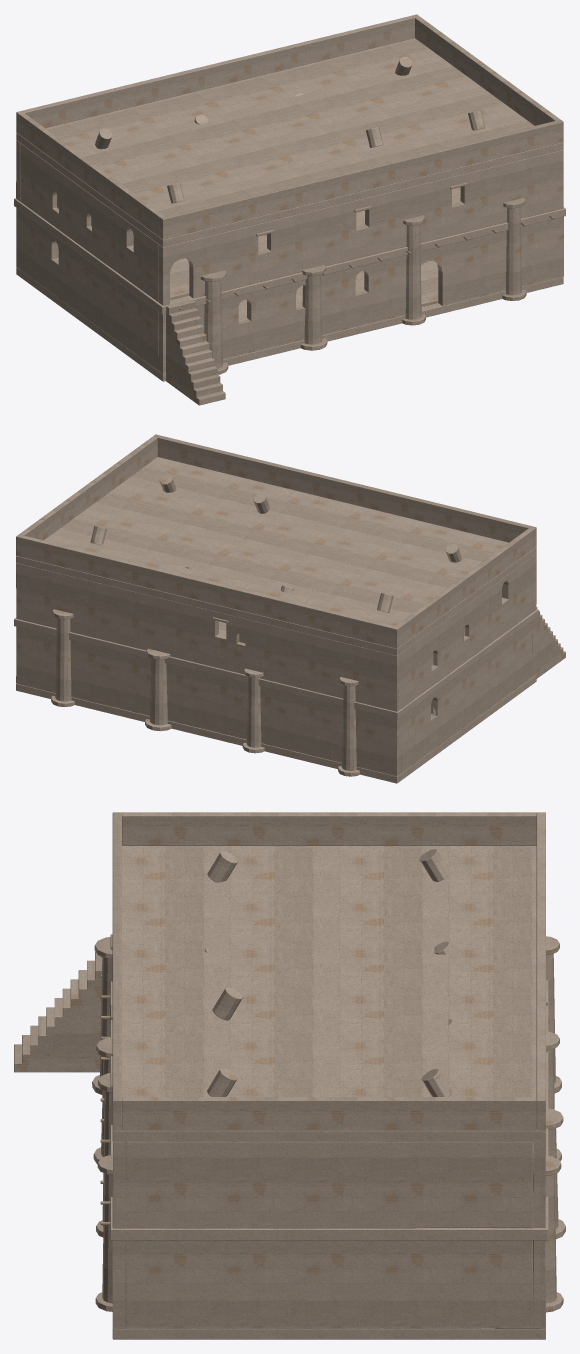
Rendered from block_20.glb.
The picture shows the model from 3 angles, top to bottom: view 1: azimuth 30°, elevation 25°; view 2: azimuth 150°, elevation 25°; view 3: azimuth 270°, elevation 25°; orthographic projection. The views are drawn at different scales.
Parts seen in each view (by area): view 1: block; view 2: block; view 3: block.
Boxes of the visible parts, x1,y1,x2,y2 form: block: [14, 14, 565, 405]; block: [14, 434, 565, 783]; block: [14, 812, 565, 1339].
Bounding box in the file's own units: 22.63 × 8.84 × 18.17.
Materials: 3 (3 with a texture image).
